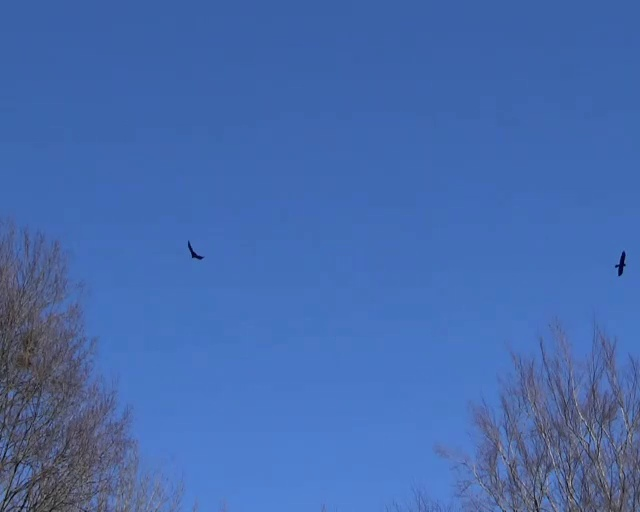BIRD: (187, 240, 203, 260)
